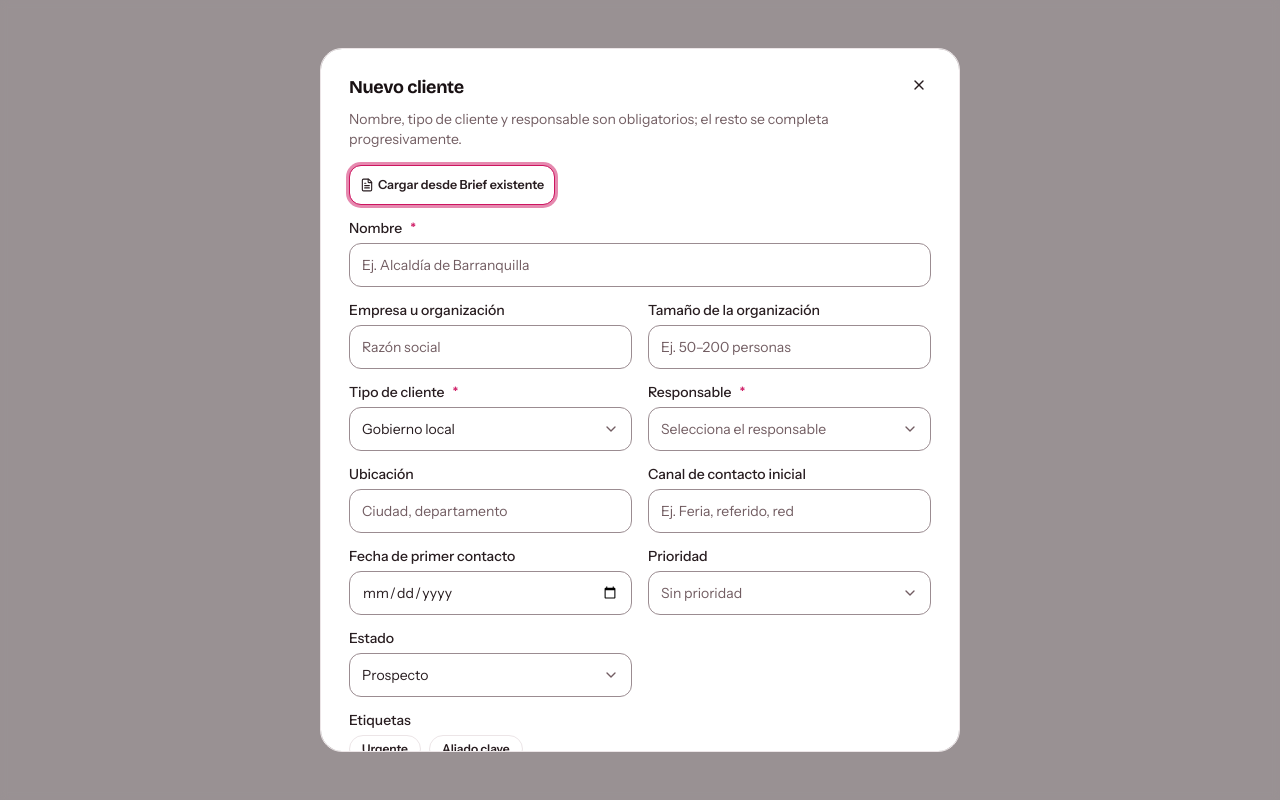
Test case: ClientFormDialog — Cargar desde Brief existente (QA audit finding #5) › fills nombre with the picked document's título and closes the picker
Click the button "Cargar desde Brief existente" at (452,185), box top-left (349, 165), bottom-right (555, 205)
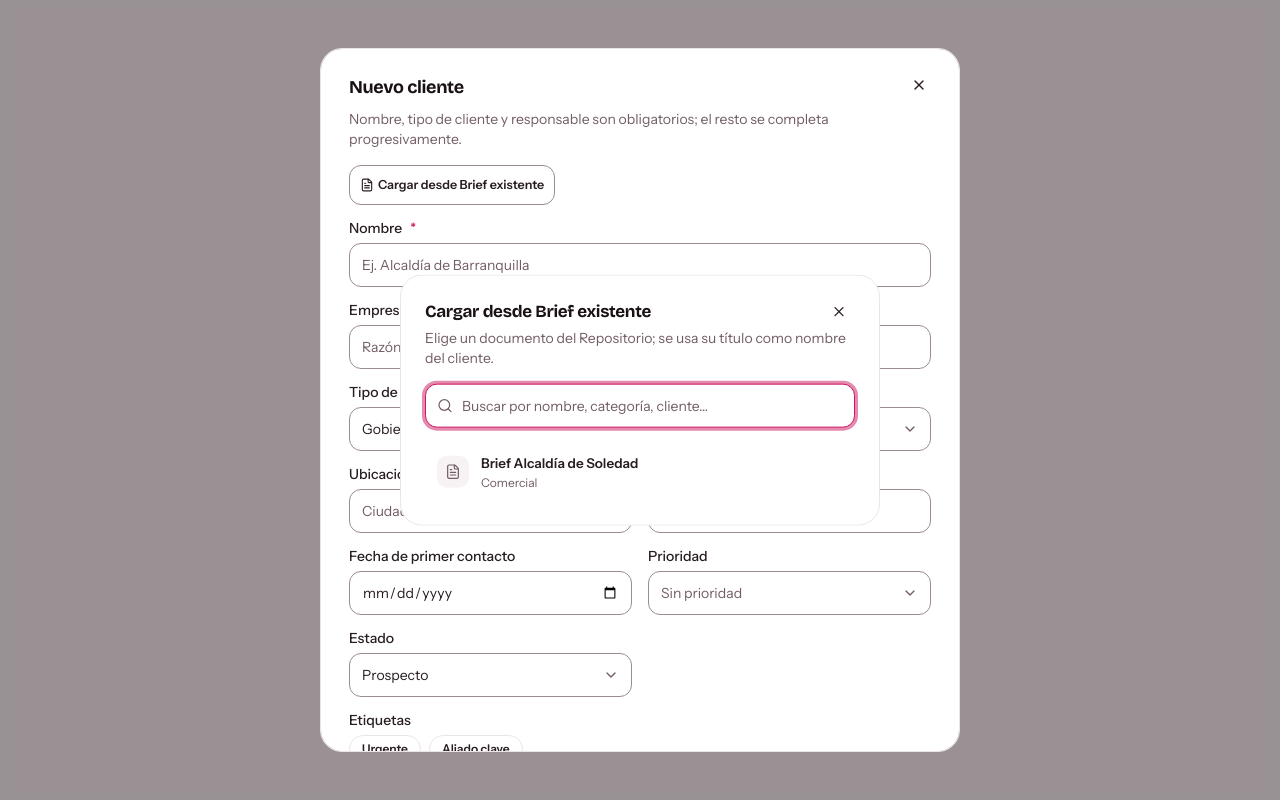
Click the button "Brief Alcaldía de Soledad Comercial" at (640,472), box top-left (425, 444), bottom-right (855, 500)
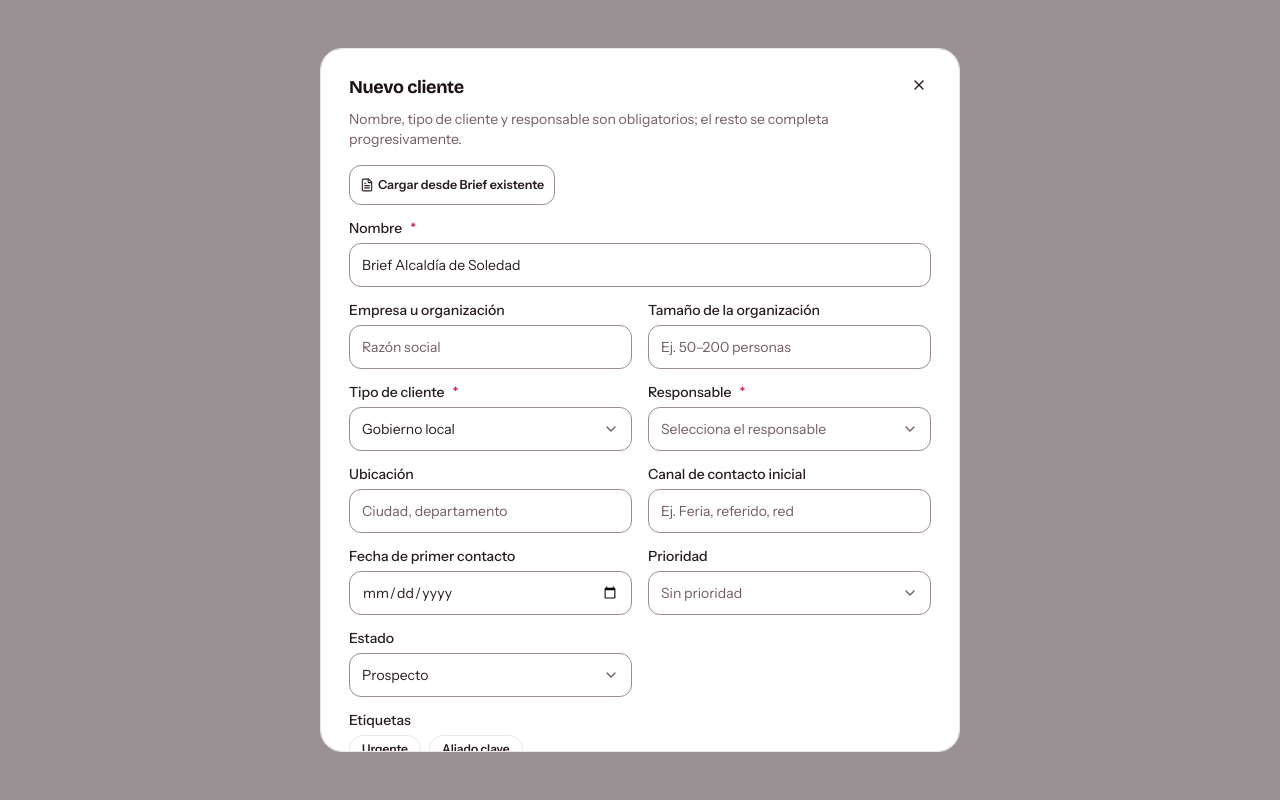
Result: the field labelled "Nombre *" holds "Brief Alcaldía de Soledad" at top-left (349, 243), bottom-right (931, 287)
